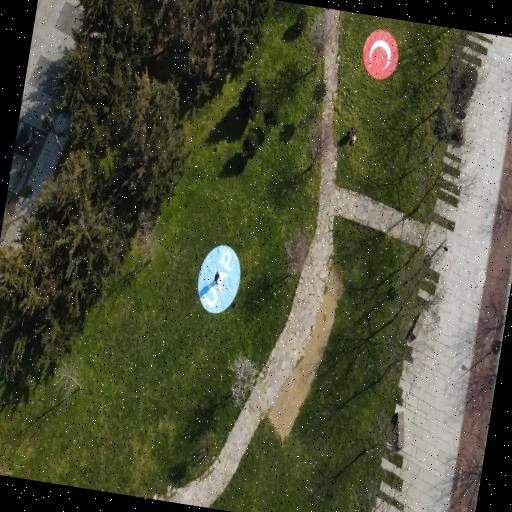UAP: (362, 29, 398, 79)
car: (197, 245, 240, 312)
person: (214, 271, 219, 285)
